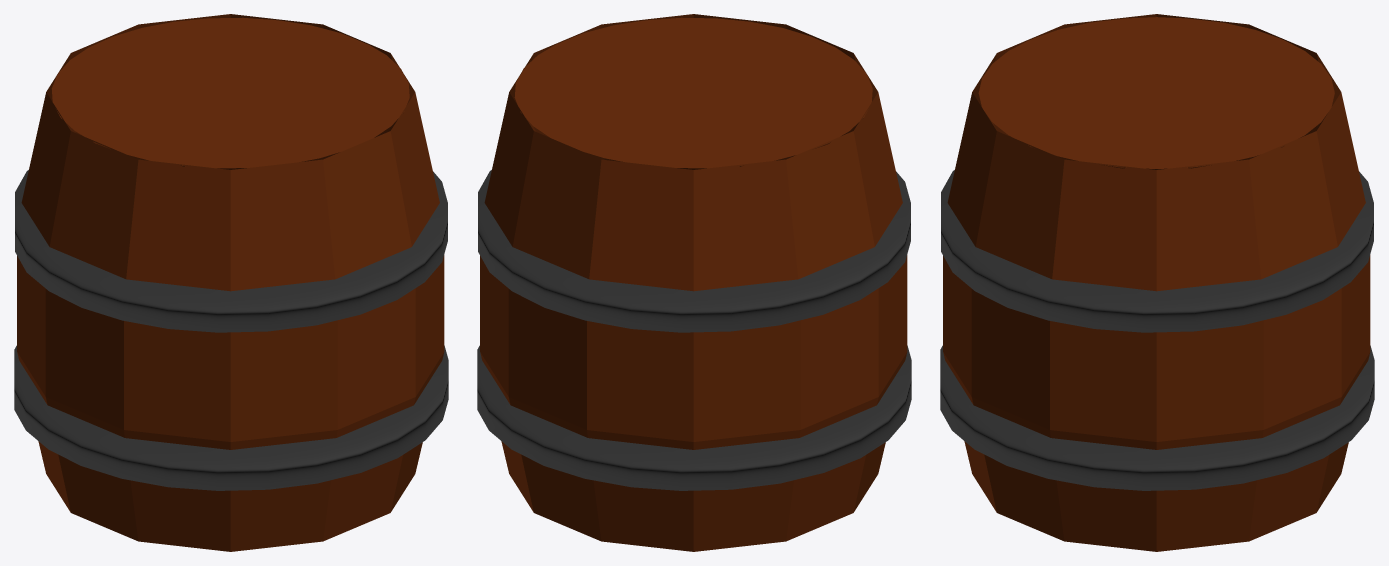
File: BECZKA V2.fbx
The picture shows the model from 3 angles, left to right: view 1: azimuth 30°, elevation 25°; view 2: azimuth 150°, elevation 25°; view 3: azimuth 270°, elevation 25°; orthographic projection.
Visible parts, largest first — view 1: Cylinder.002; view 2: Cylinder.002; view 3: Cylinder.002.
Part boxes in pixels (x1=…): Cylinder.002: x1=14, y1=14, x2=448, y2=551; Cylinder.002: x1=477, y1=14, x2=911, y2=551; Cylinder.002: x1=940, y1=14, x2=1374, y2=551.
Size of the model in its own units: 242 by 234 by 242.
